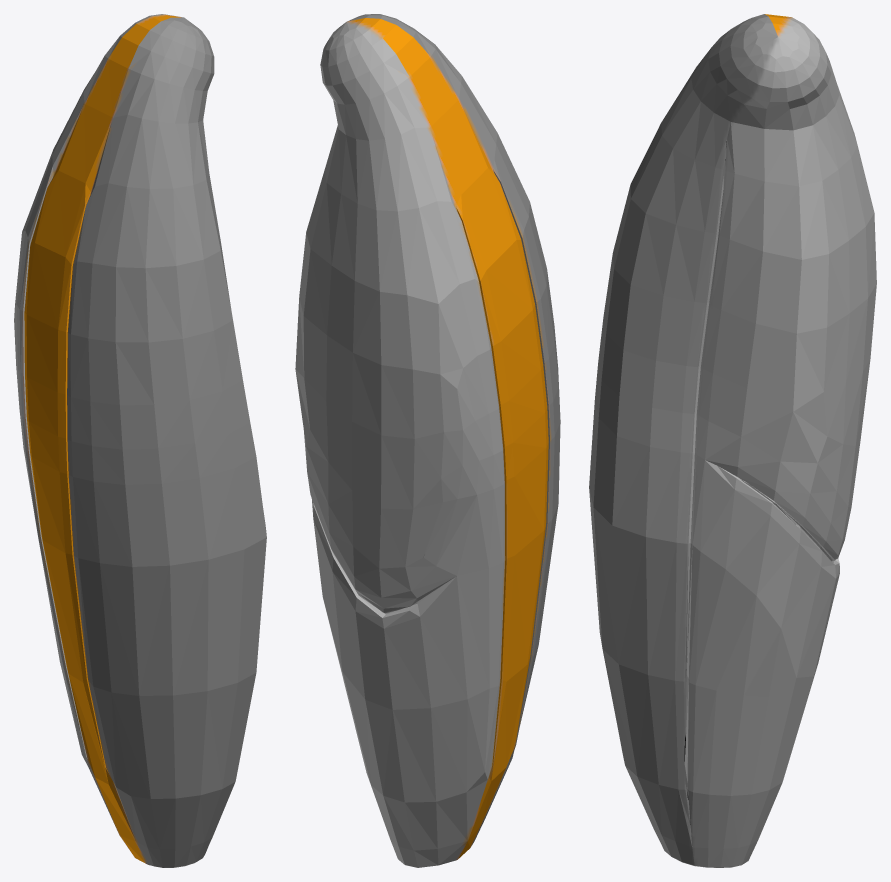
The model's file is RightUpperLeg.obj.
The picture shows the model from 3 angles, left to right: view 1: azimuth 30°, elevation 25°; view 2: azimuth 150°, elevation 25°; view 3: azimuth 270°, elevation 25°; orthographic projection. The views are drawn at different scales.
Parts seen in each view (by area): view 1: RightUpperLeg_Mesh.036; view 2: RightUpperLeg_Mesh.036; view 3: RightUpperLeg_Mesh.036.
Part boxes in pixels (<box>): RightUpperLeg_Mesh.036: <box>14,14,266,867</box>; RightUpperLeg_Mesh.036: <box>295,14,560,867</box>; RightUpperLeg_Mesh.036: <box>589,14,876,867</box>.
Bounding box in the file's own units: 0.1181 × 0.4598 × 0.1406.
1 material, 1 textured.
